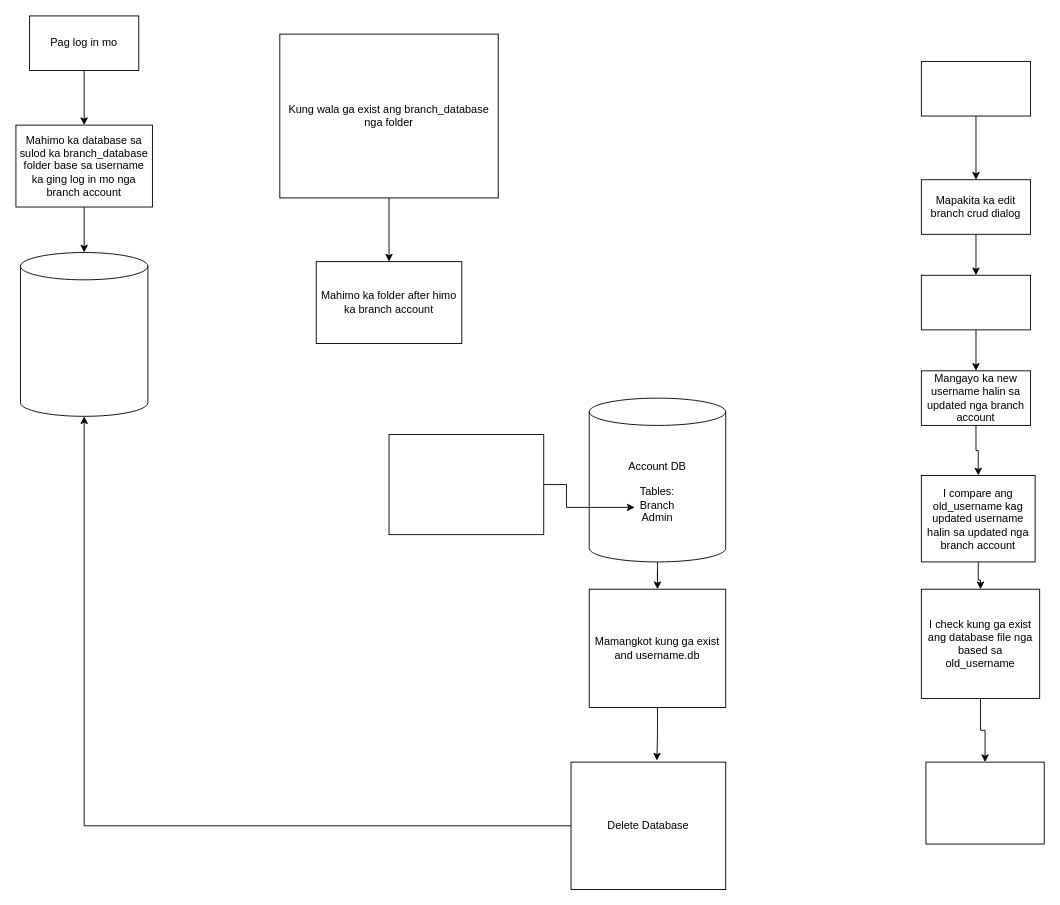
The diagram is 1060 pixels wide and 905 high, and some of its shapes have lost their labels. The centre of each missing label's shape, as x and y in pixels:
Branch DB username.db: point 84,334
I rename ang database file base sa updated username ka updated branch account: point 984,802
Mangayo ka username para i store sa old_username nga variable: point 975,88
ngayo ka username: point 466,484
Update ang branch accout sa account.db: point 975,302
